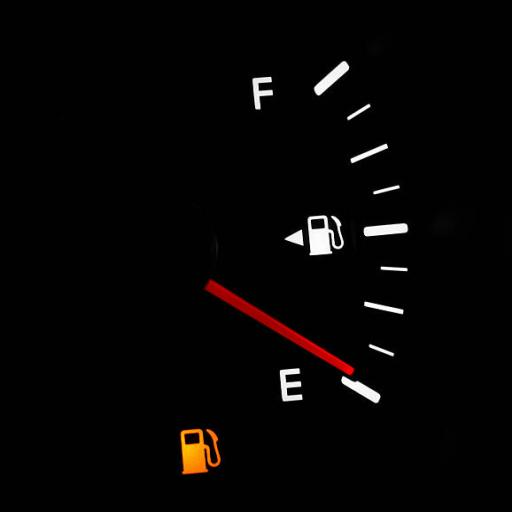empty: (268, 358, 317, 416)
fuel_icon: (304, 208, 349, 264)
full: (244, 66, 280, 117)
guage_area: (98, 34, 440, 492)
needle_center: (127, 207, 231, 307)
needle_tip: (323, 344, 361, 378)
